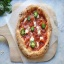pizza: (15, 3, 50, 58)
